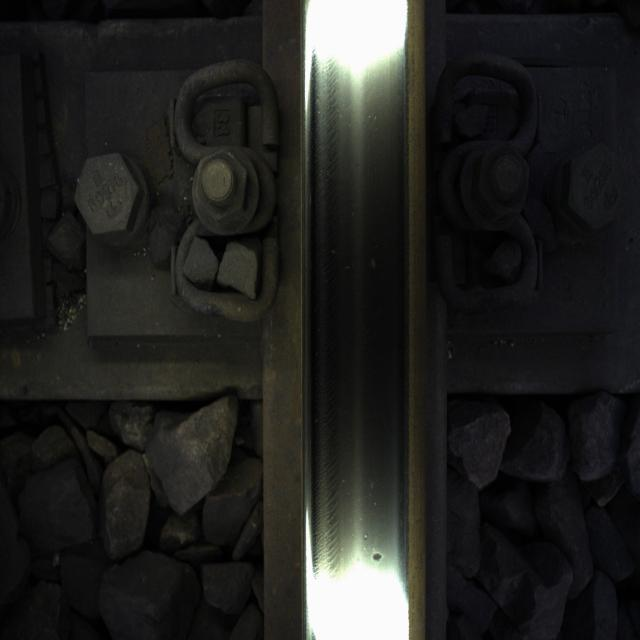break: (310, 45, 396, 603)
